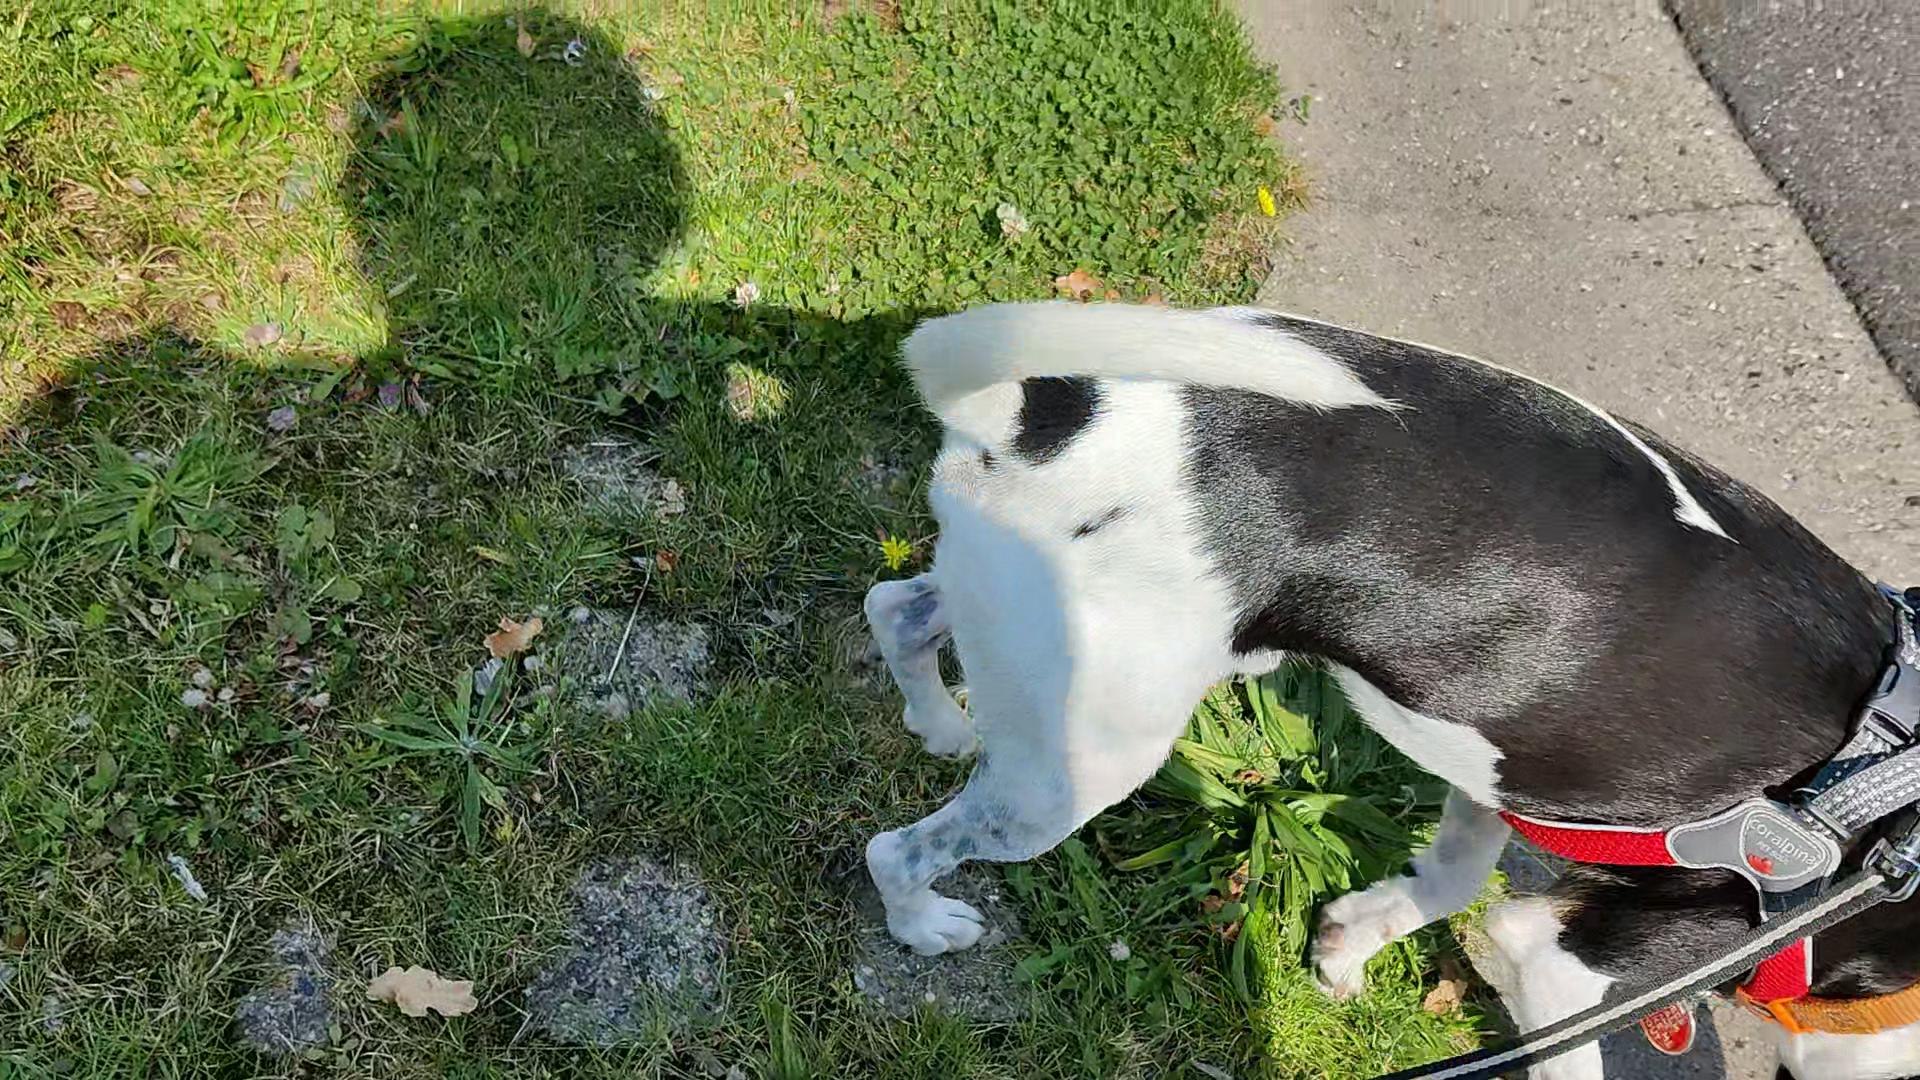Dog: (822, 281, 1919, 1079)
